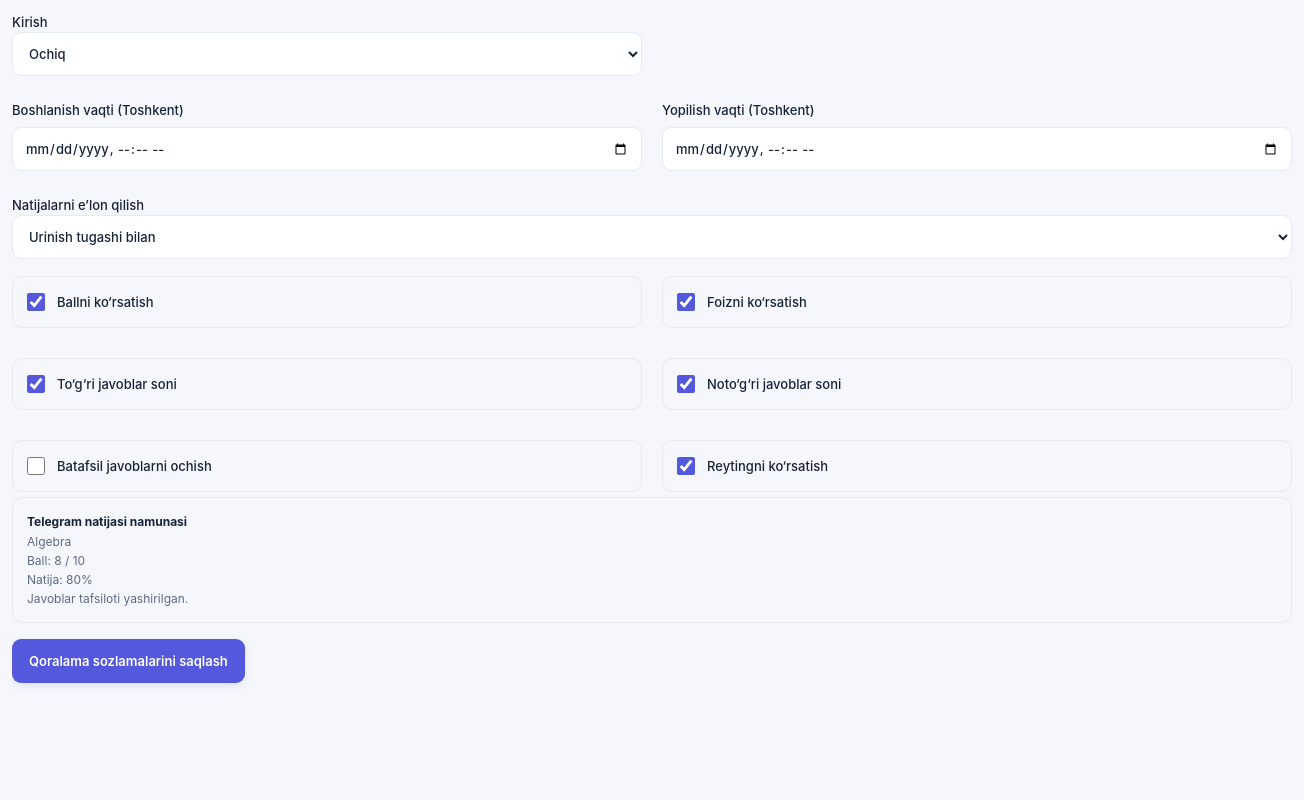
Scenario: Quiz and import workflows › result defaults hide details and preview follows switches
Expected: the text "Javoblar tafsiloti yashirilgan" is shown, [27,591,188,606]
Click the checkbox labelled "Batafsil javoblarni ochish".
click(36, 466)  # box [27,457,45,475]
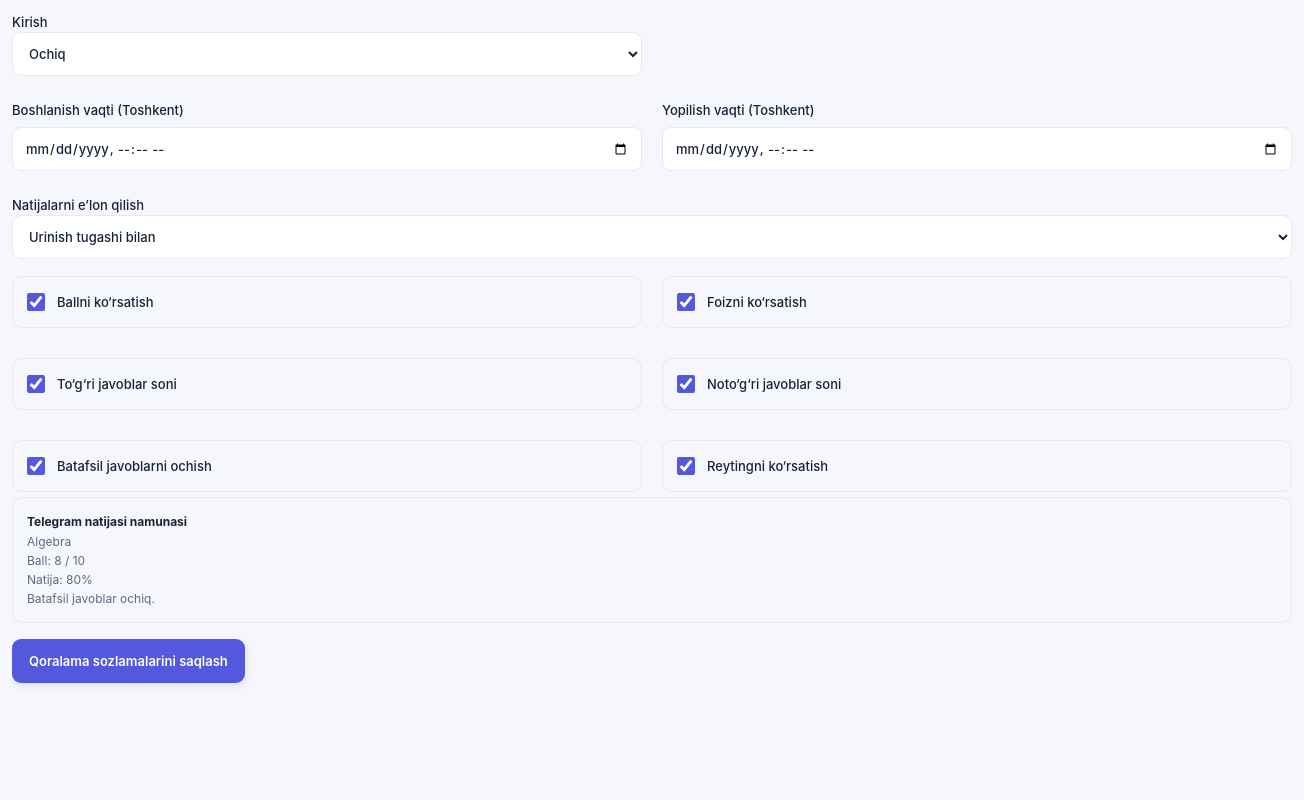
Result: the checkbox labelled "Batafsil javoblarni ochish" is checked at [27,457,45,475]
Result: the text "Batafsil javoblar ochiq" is shown at [27,591,155,606]
